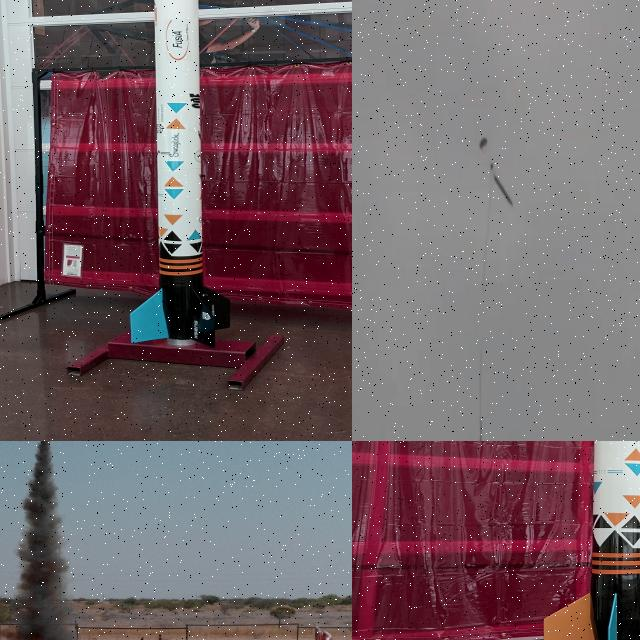Rocket: (130, 0, 230, 348), (543, 441, 640, 640)
